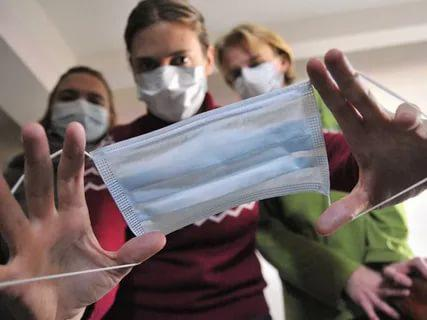mask: (134, 23, 208, 122), (50, 74, 112, 144), (224, 30, 286, 100)
